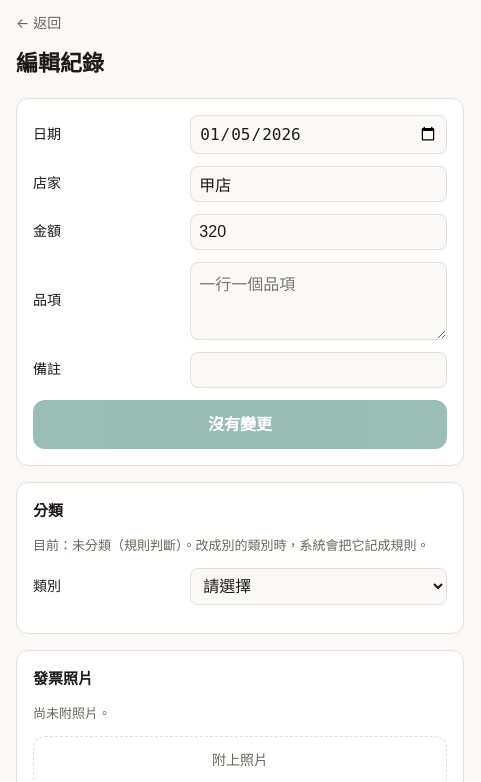
it: 編輯紀錄：不能默默改壞資料 › 改日期撞到另一張同號碼的發票：說明原因，兩筆都不變
The width and height of the screenshot is (481, 782).
In the date field labelled "日期": (319, 134) x1=190 y1=115 x2=447 y2=154, type "2026-03-06"
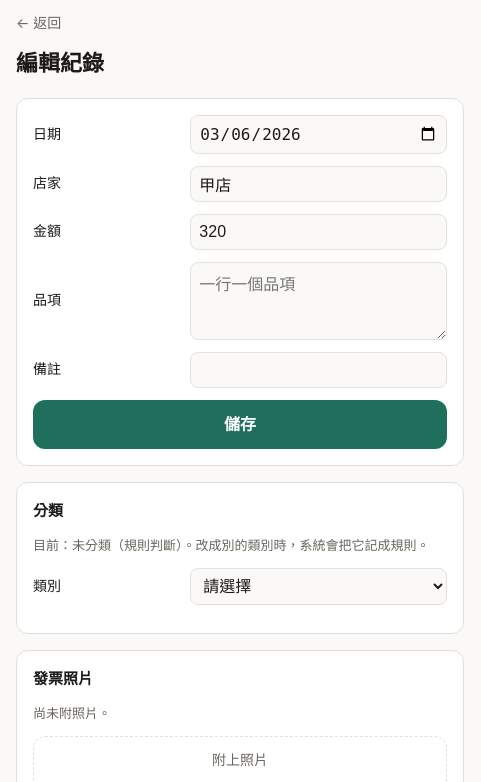
Click the button "儲存": (240, 424) x1=33 y1=400 x2=447 y2=449
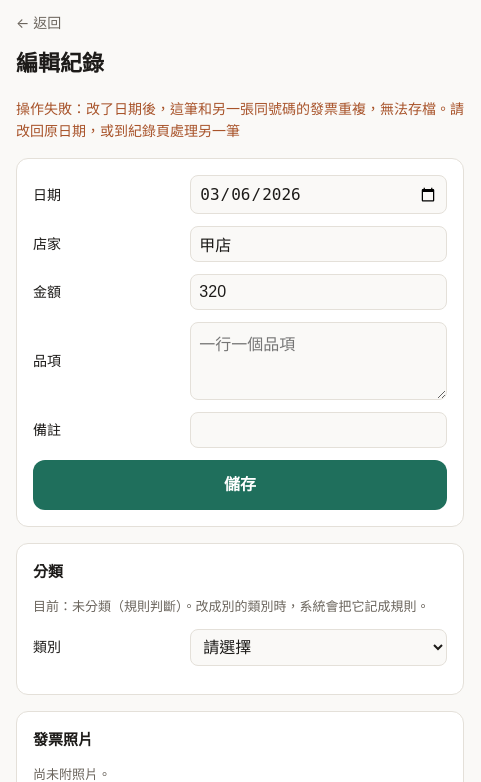
Result: the text "和另一張同號碼的發票重複" is shown at x1=16 y1=100 x2=464 y2=139
